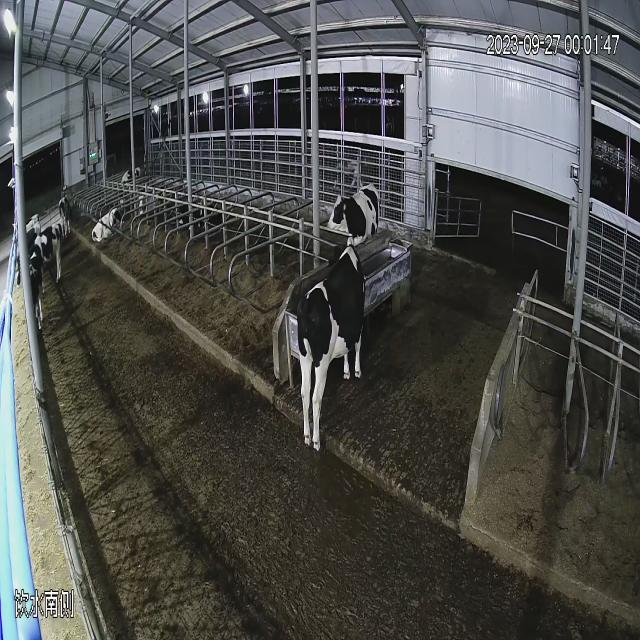drinking: (293, 243, 368, 479)
lying down: (86, 200, 128, 250), (134, 176, 166, 220), (121, 158, 145, 192)
standing: (322, 174, 387, 256), (55, 183, 73, 250)
